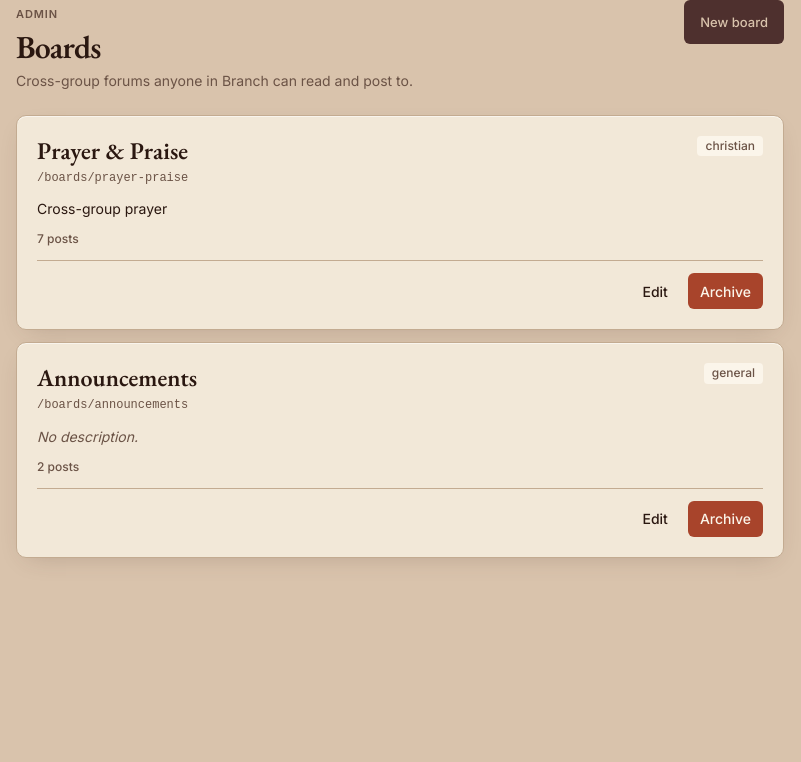
Test: AdminBoardsPage edit › shows error banner on PATCH failure and keeps edit card open
The width and height of the screenshot is (801, 762).
Expected: the link "Prayer & Praise" is shown, [37,136,188,166]
Click the button "Edit" below "christian" at (655, 291), box [630,273,680,309]
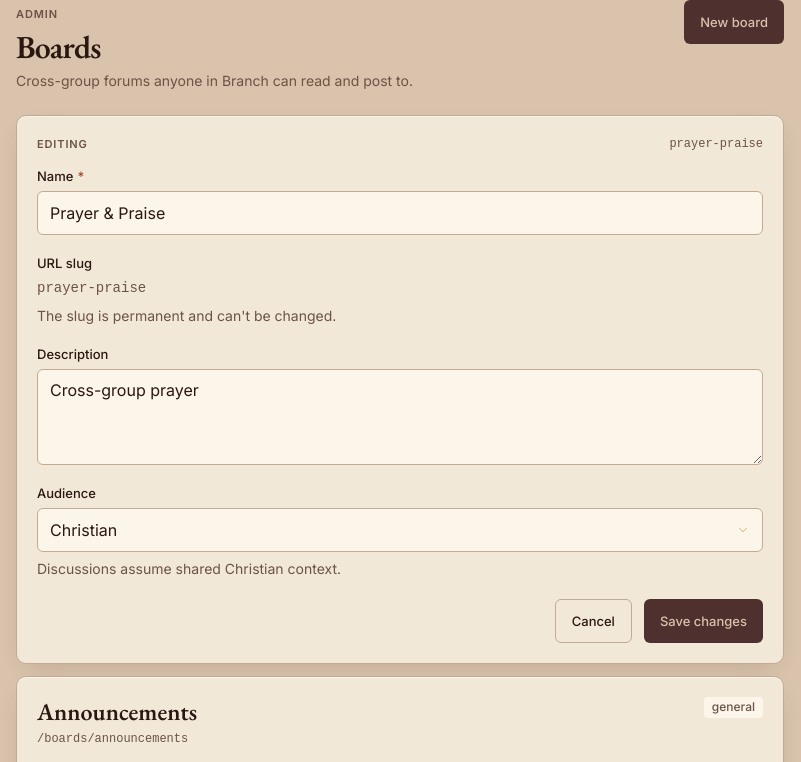
Click the button "Save changes" at (703, 621), box [644,599,763,643]
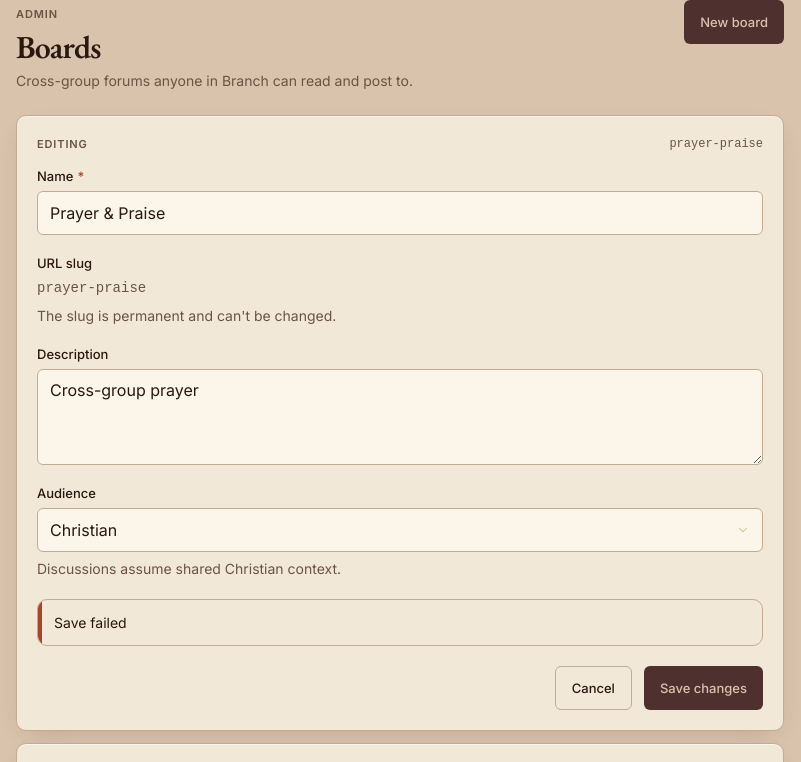
Now the button "Save changes" is shown, box [644,666,763,710]
Now the text "Save failed" is shown, box [54,614,127,631]
